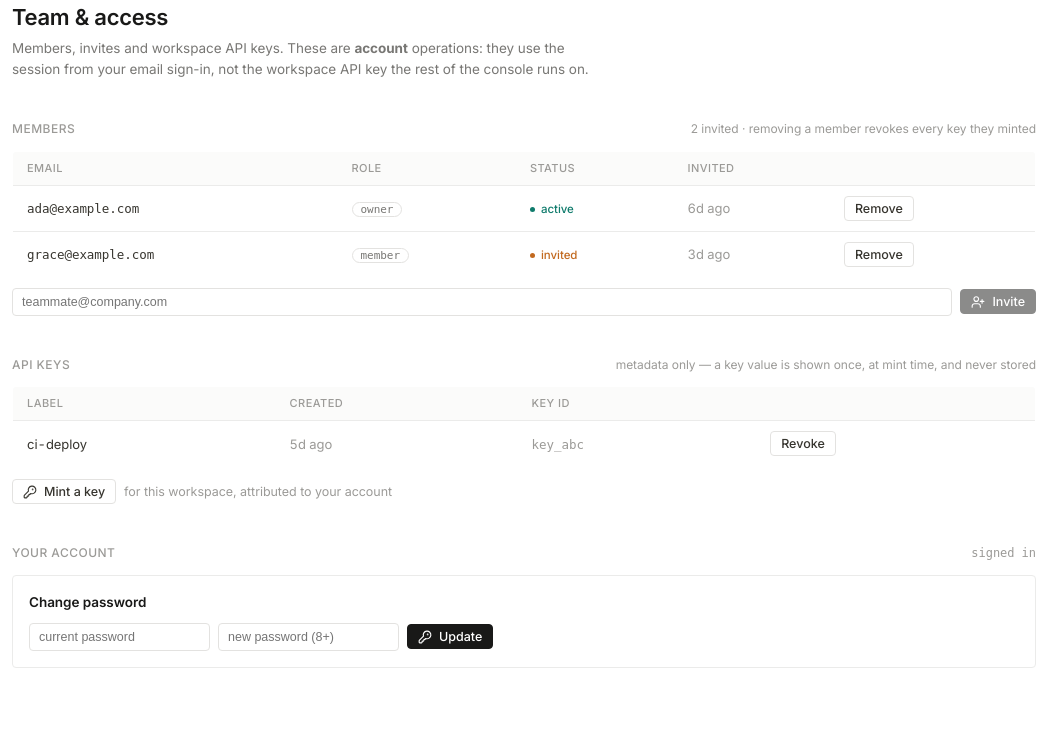
it: TeamView › shows a freshly minted key once, with the shown-once warning
Expected: the text "ada@example.com" is shown, [27,201,139,216]
Expected: the text "rya_sk_live_secret" is not shown
Click the button "Mint a key": (64, 492) [12,479,116,504]
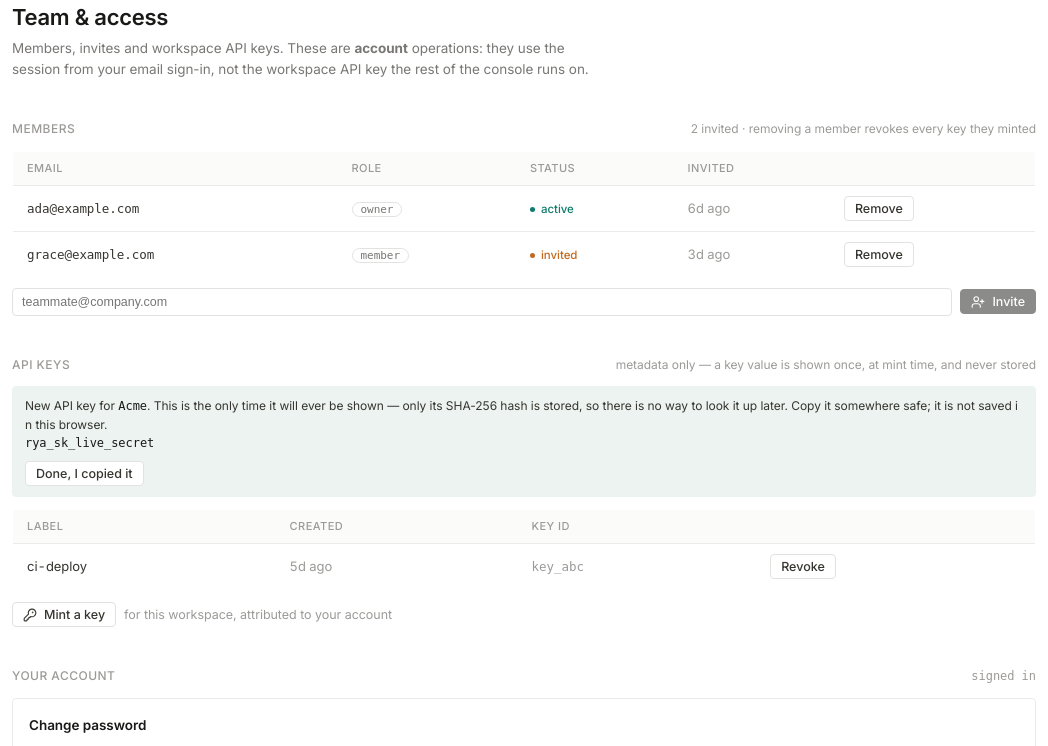
Result: the text "rya_sk_live_secret" is shown at [25,436,154,450]
Result: the text "SHA-256 hash is stored" is shown at [25,398,1018,432]
Click the button "Done, I copied it": (84, 474) [25,461,144,486]
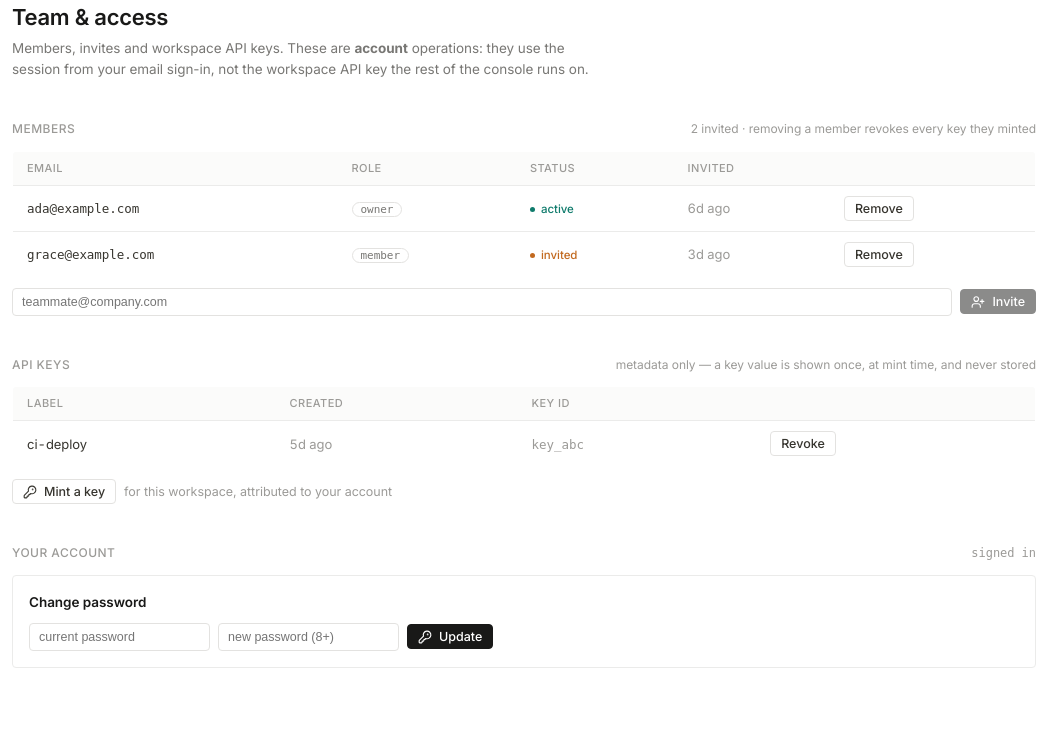
Expected: the text "ci-deploy" is shown, [12,421,276,467]
Result: the text "rya_sk_live_secret" is gone
